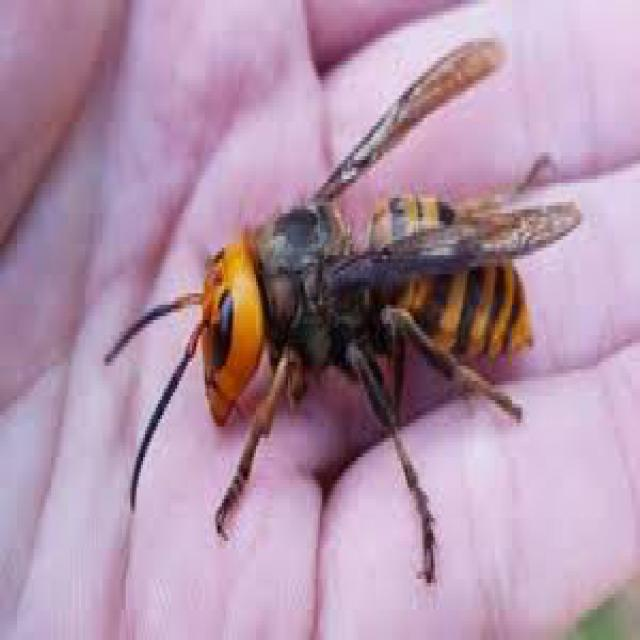Vespa Velutina: (98, 34, 586, 602)
